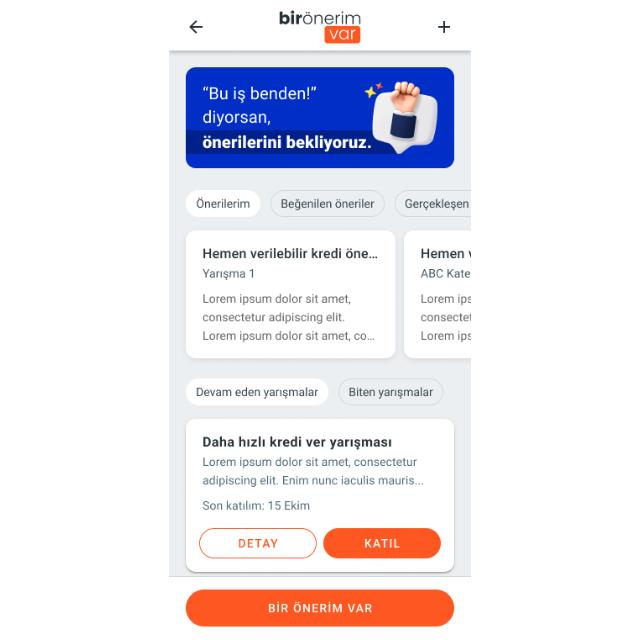QLabel: (200, 292, 382, 344), (200, 454, 430, 490), (200, 433, 394, 451), (200, 245, 380, 263), (416, 292, 472, 344), (262, 599, 376, 617), (200, 498, 312, 514), (195, 386, 321, 400), (279, 196, 376, 212), (346, 384, 436, 400), (404, 197, 470, 211), (417, 243, 471, 260), (416, 266, 472, 282), (361, 533, 404, 553), (194, 196, 252, 210), (200, 266, 256, 280), (235, 536, 279, 550)
VAppBar: (169, 0, 471, 50)
VBtn: (187, 588, 456, 628), (322, 527, 442, 559), (200, 527, 316, 559)
VCard: (183, 418, 457, 574), (184, 232, 398, 358), (405, 231, 471, 359)
VChip: (187, 378, 329, 408), (340, 378, 444, 407), (271, 192, 385, 218), (186, 190, 260, 218), (396, 192, 472, 216)
VFooter: (169, 576, 471, 640)
VIcon: (187, 18, 205, 36), (436, 19, 452, 35), (364, 87, 378, 99)
VImg: (186, 68, 457, 168), (276, 8, 366, 46)
